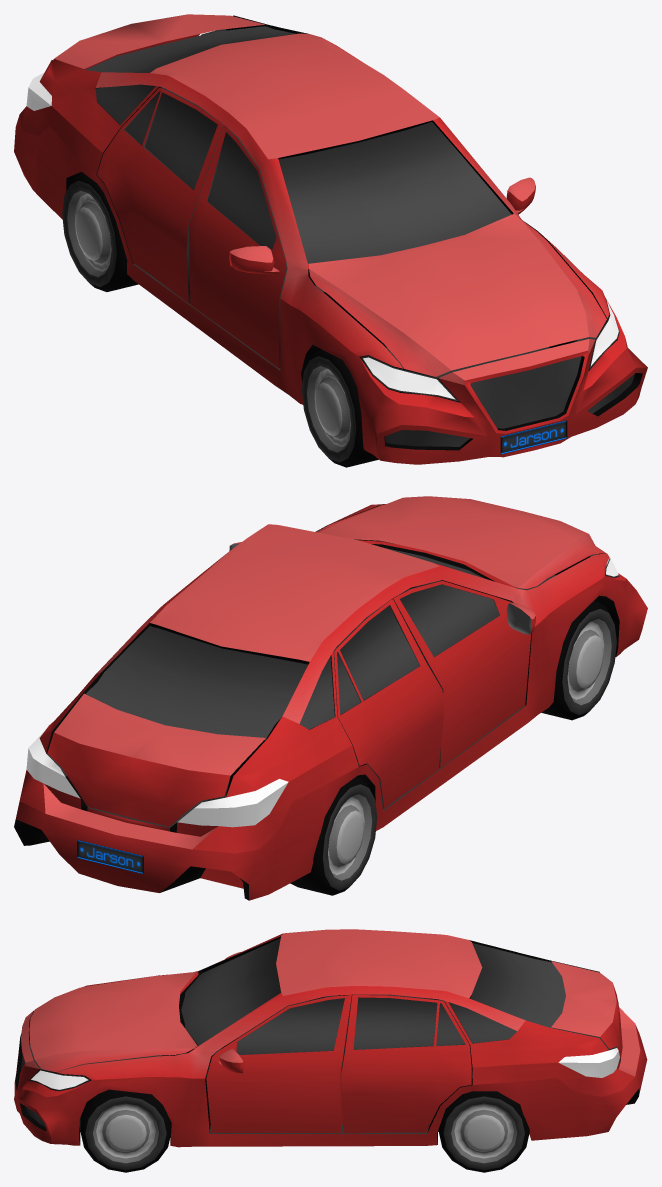
File: sedan.gltf
3 renders of one model, top to bottom at view 1: azimuth 30°, elevation 25°; view 2: azimuth 150°, elevation 25°; view 3: azimuth 270°, elevation 25°, orthographic. The views are drawn at different scales.
Visible parts, largest first — view 1: body, hood, lDoor, lDoor2, fWheels, bWheels, trunk, fLicense, rDoor; view 2: body, trunk, lDoor, lDoor2, hood, bWheels, fWheels, bLicense; view 3: body, rDoor, rDoor2.001, hood, fWheels, bWheels, trunk.
Boxes of the visible parts, box(x1,y1,x2,y2) form: body: box(14, 15, 647, 464); hood: box(308, 214, 606, 376); lDoor: box(189, 125, 287, 368); lDoor2: box(97, 87, 223, 303); fWheels: box(301, 349, 378, 467); bWheels: box(62, 173, 138, 291); trunk: box(53, 14, 264, 69); fLicense: box(500, 420, 567, 454); rDoor: box(506, 177, 535, 214); body: box(14, 504, 647, 900); trunk: box(47, 693, 265, 826); lDoor: box(392, 580, 535, 767); lDoor2: box(333, 599, 443, 809); hood: box(316, 496, 606, 588); bWheels: box(290, 776, 377, 895); fWheels: box(541, 600, 616, 720); bLicense: box(77, 839, 143, 874); body: box(14, 929, 647, 1147); rDoor: box(206, 995, 351, 1132); rDoor2.001: box(341, 994, 471, 1133); hood: box(29, 971, 197, 1072); fWheels: box(80, 1089, 171, 1172); bWheels: box(438, 1091, 529, 1172); trunk: box(551, 961, 622, 1058).
Size of the model in its own units: 11.24 by 8.13 by 27.27.
2 materials, 2 textured.
